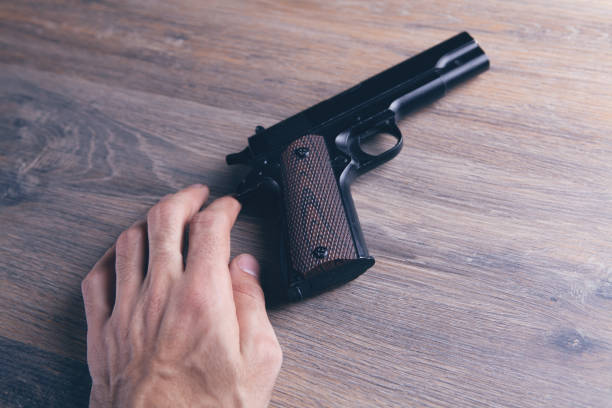gun: (223, 27, 493, 304)
